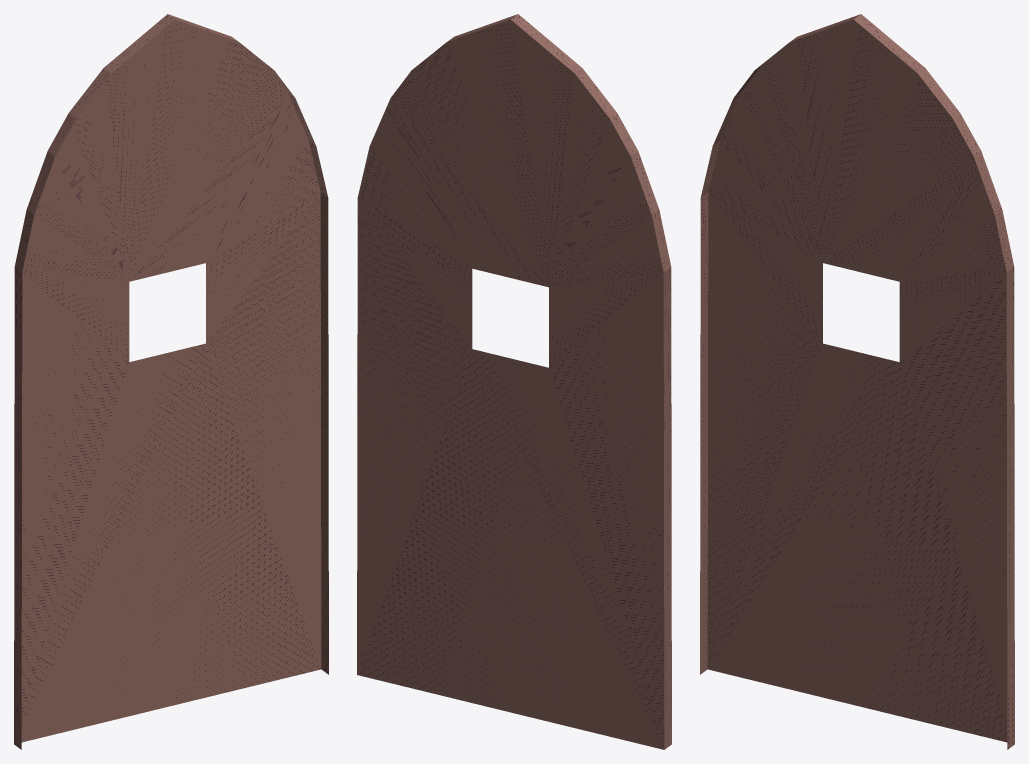
Rendered from DoorLightBlocker.fbx.
The picture shows the model from 3 angles, left to right: view 1: azimuth 30°, elevation 25°; view 2: azimuth 150°, elevation 25°; view 3: azimuth 330°, elevation 25°; orthographic projection.
Visible parts, largest first — view 1: DoorLightBlocker; view 2: DoorLightBlocker; view 3: DoorLightBlocker.
Boxes of the visible parts, x1,y1,x2,y2 form: DoorLightBlocker: (14, 14, 328, 749); DoorLightBlocker: (357, 14, 671, 749); DoorLightBlocker: (700, 14, 1014, 749).
Bounding box in the file's own units: 1.11 × 2.39 × 0.0476.
